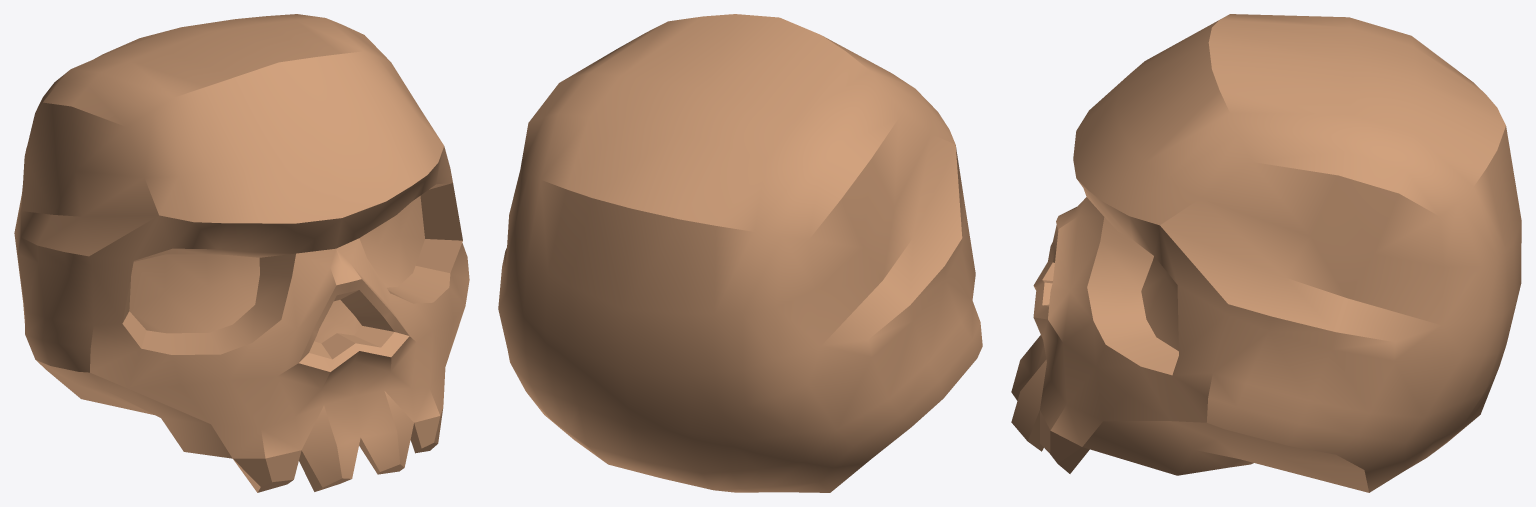
The model's file is skull.glb.
The picture shows the model from 3 angles, left to right: view 1: azimuth 30°, elevation 25°; view 2: azimuth 150°, elevation 25°; view 3: azimuth 270°, elevation 25°; orthographic projection. The views are drawn at different scales.
Parts seen in each view (by area): view 1: Prop_Skull; view 2: Prop_Skull; view 3: Prop_Skull.
Boxes of the visible parts, <box> form: Prop_Skull: <box>14,14,469,492</box>; Prop_Skull: <box>498,14,982,492</box>; Prop_Skull: <box>1011,14,1521,492</box>.
Size of the model in its own units: 0.4838 by 0.4409 by 0.5148.
Materials: 1 (1 with a texture image).
